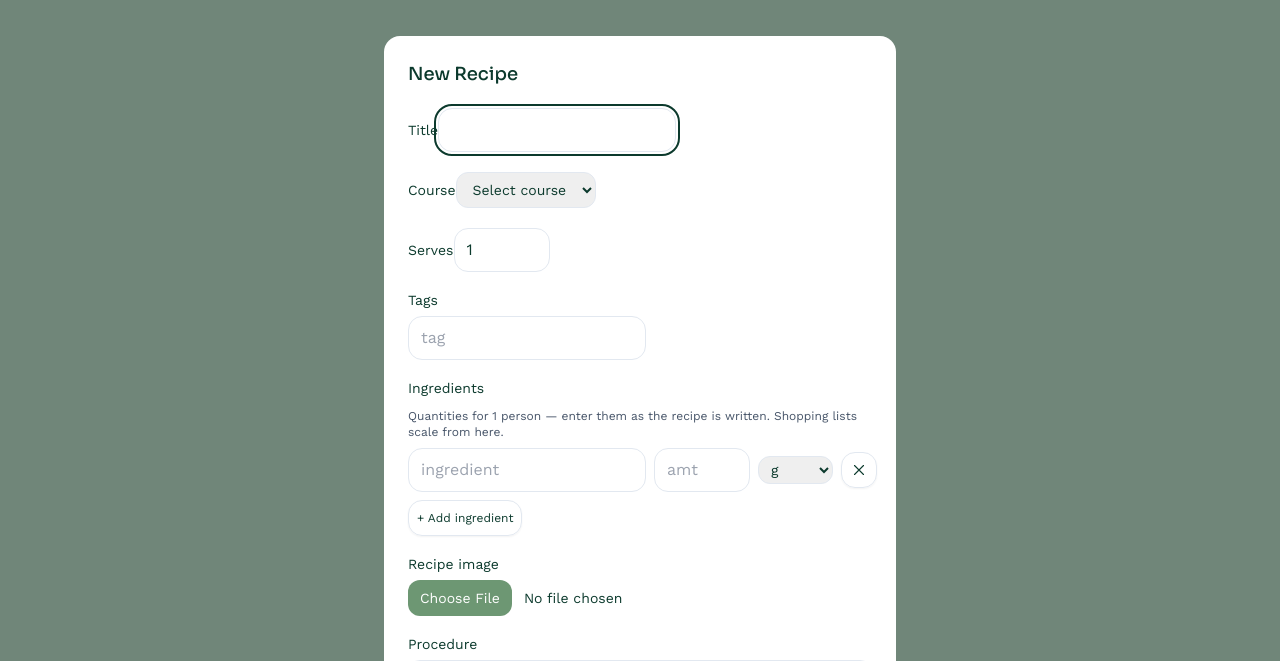
it: by default it loads the user pantry and tags and offers to add an ingredient
The width and height of the screenshot is (1280, 661).
Check: the heading "New Recipe" is shown, box 408,63 -> 518,85
Focus the field with placeholder "ingredient" at {"x": 527, "y": 470}, box 408,448 -> 646,492
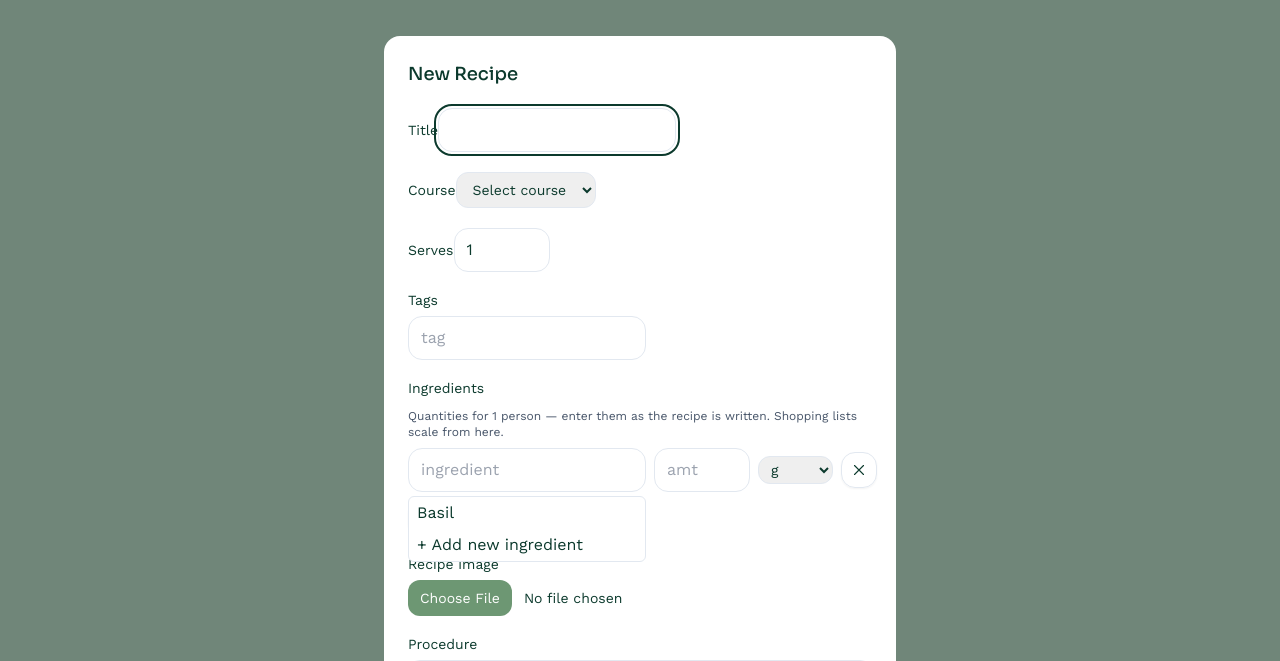
Check: the text "Basil" is shown, box 417,503 -> 454,522
Check: the text "+ Add new ingredient" is shown, box 417,535 -> 583,554
